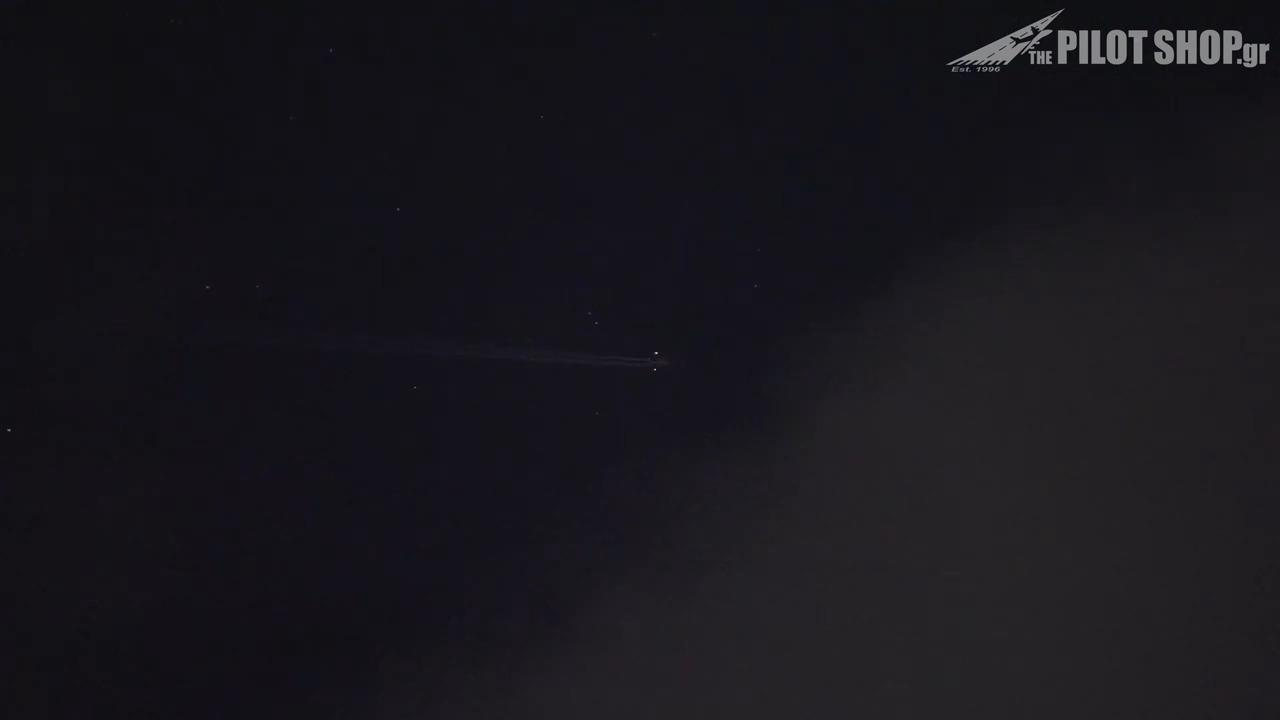Plane: (493, 339, 691, 380)
